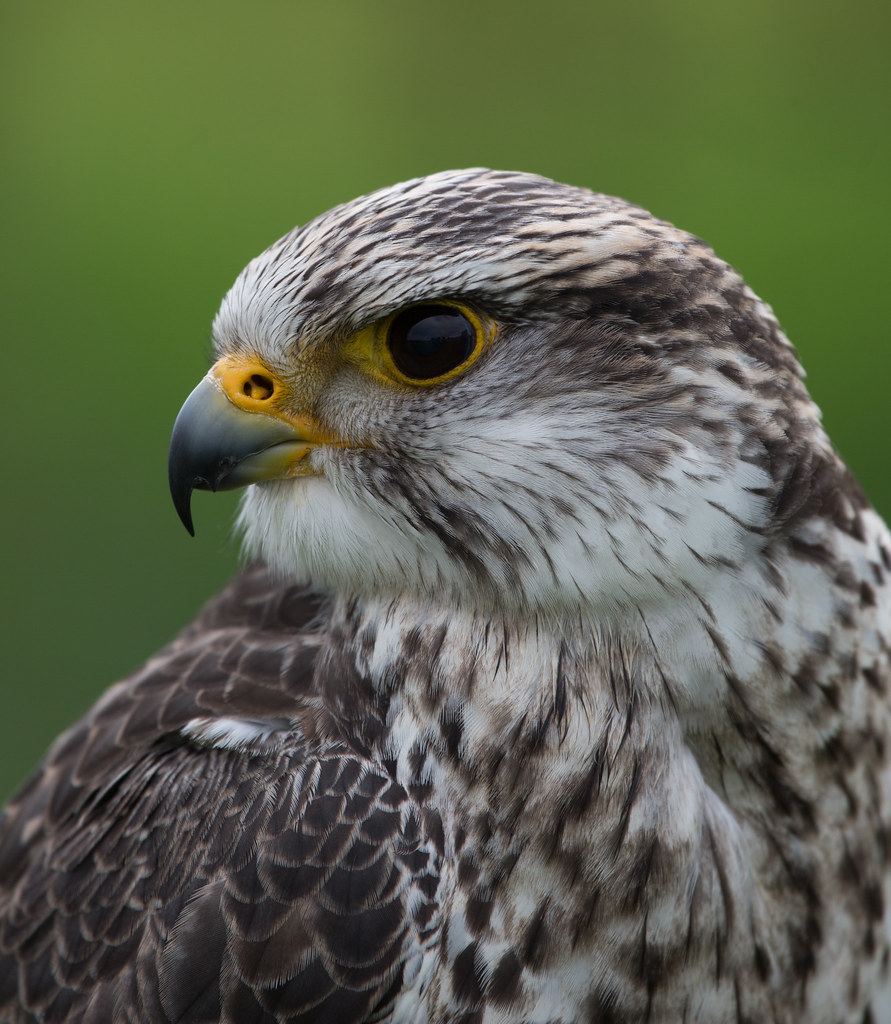Pengoyak Daging: (146, 360, 301, 554)
